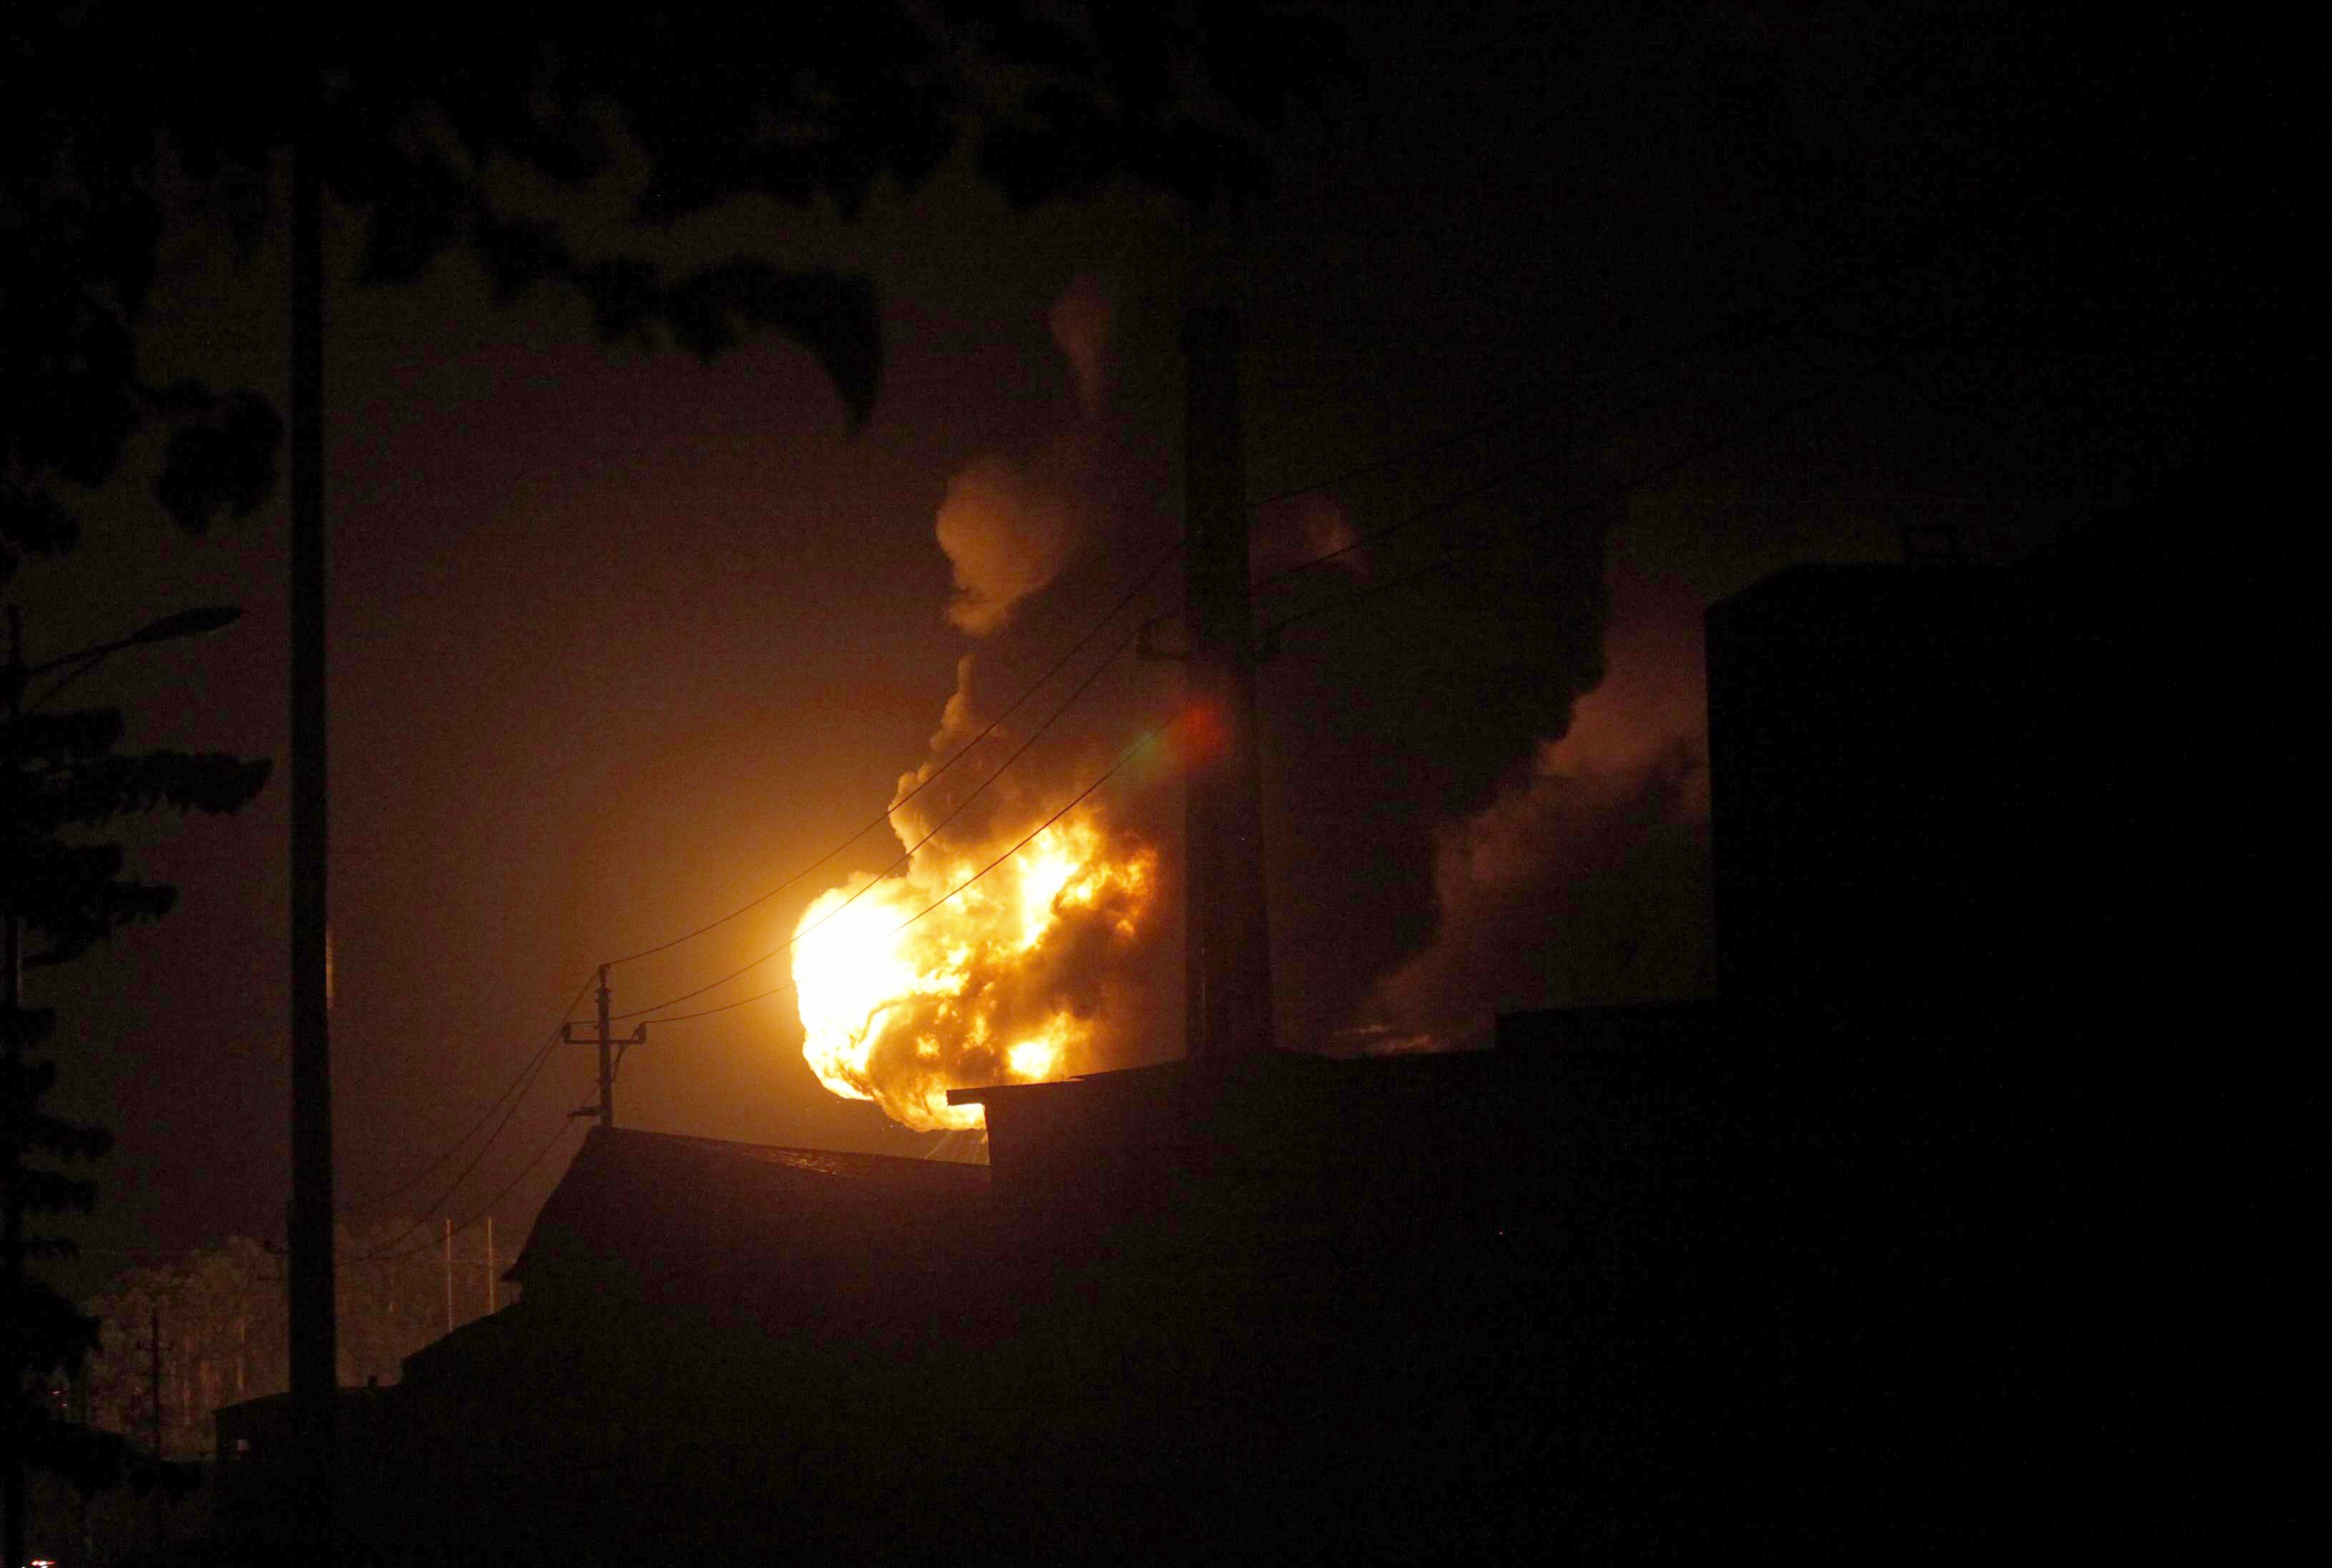fire: (785, 800, 1137, 1125)
